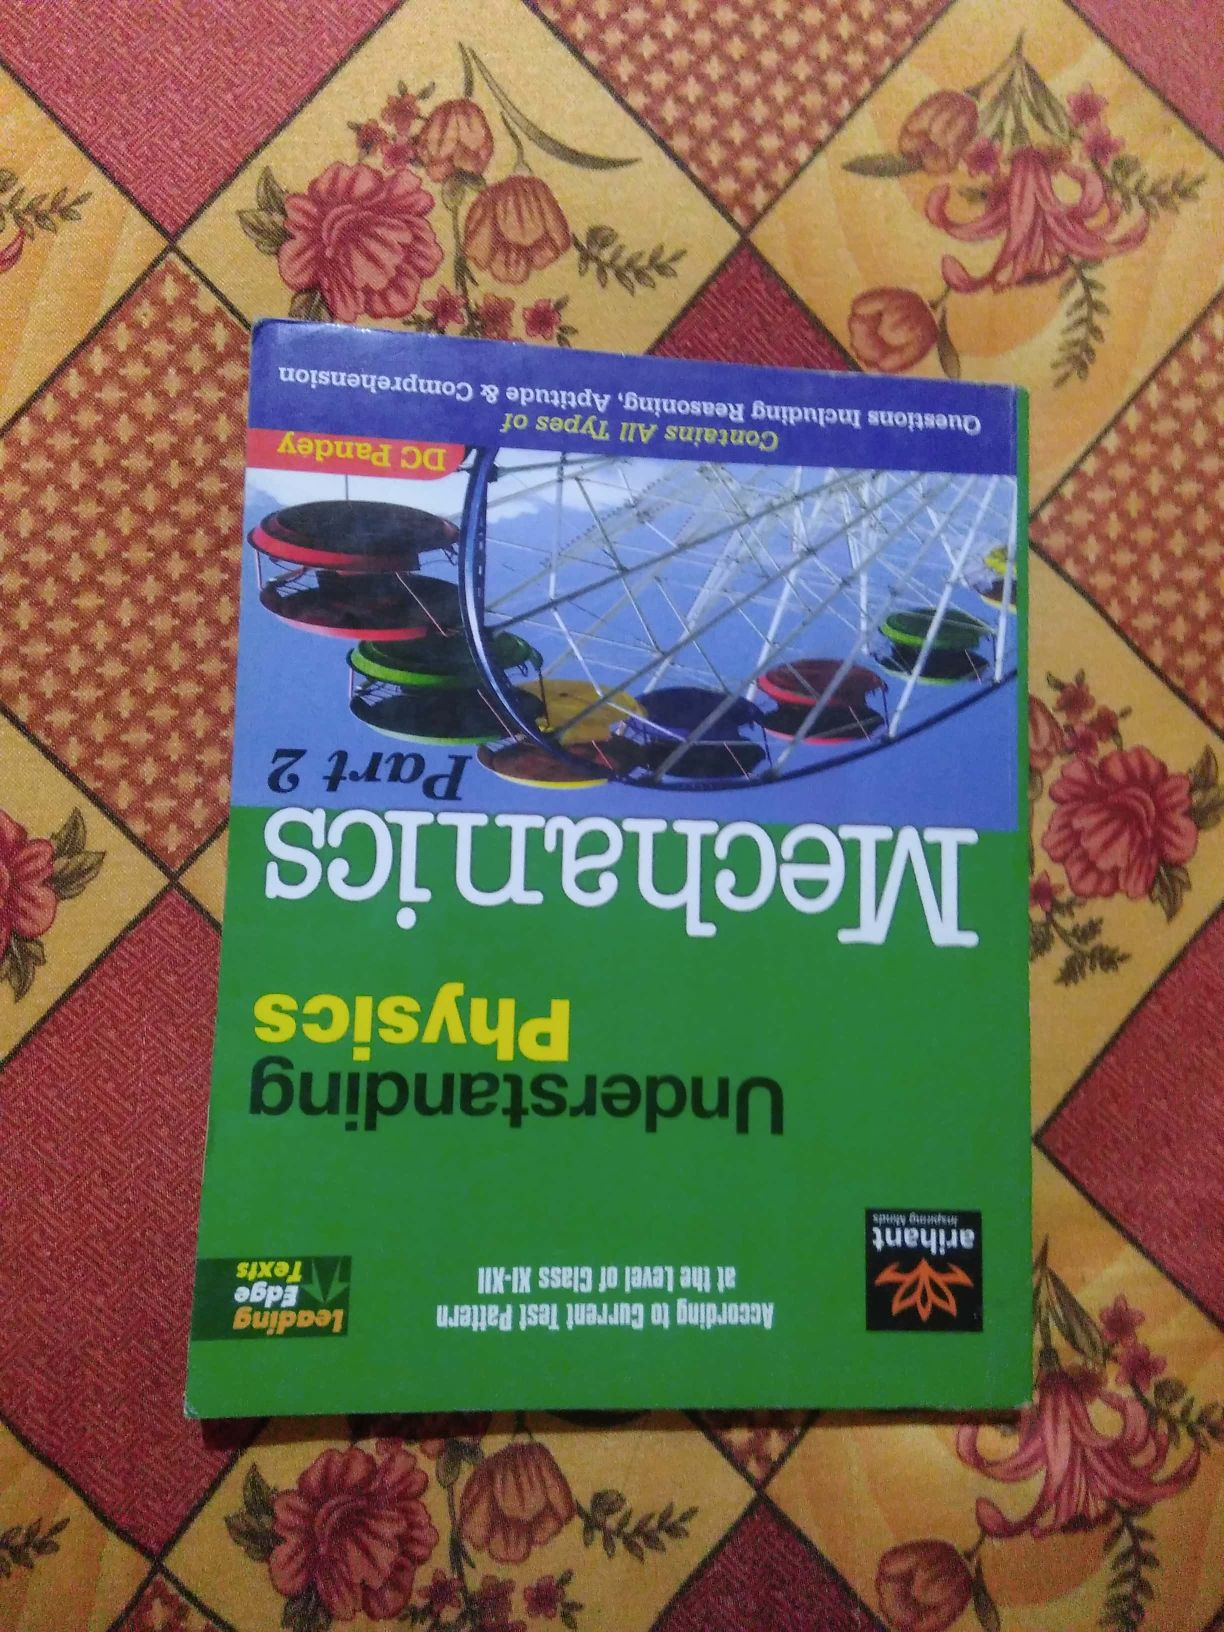mechanics: (161, 305, 1107, 1462)
